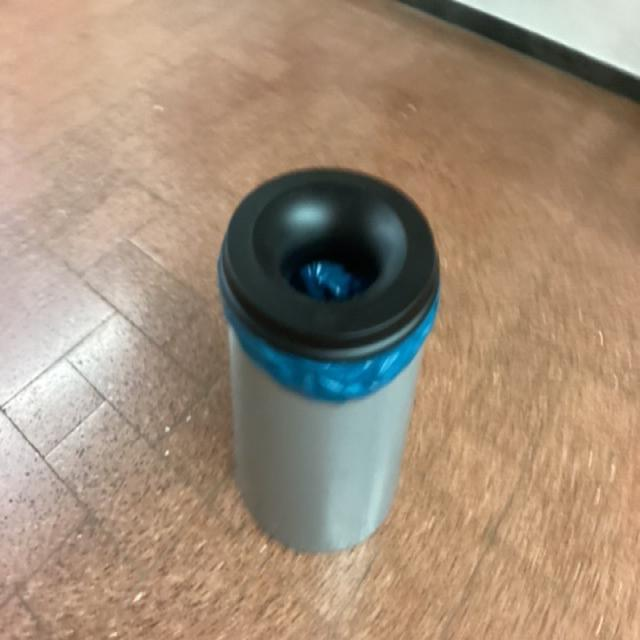garbage container: (214, 147, 444, 559)
